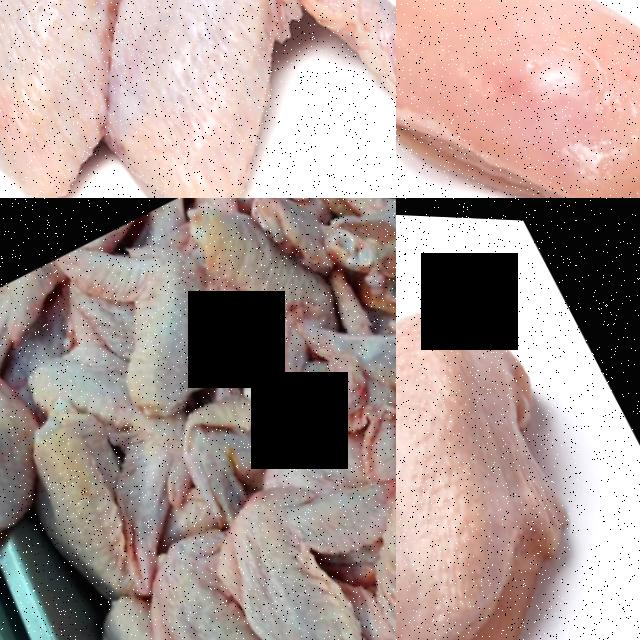chicken breast: (396, 200, 640, 640), (396, 0, 640, 198)
chicken wing: (27, 0, 396, 198), (52, 200, 255, 435), (193, 422, 396, 640), (0, 301, 79, 573)
